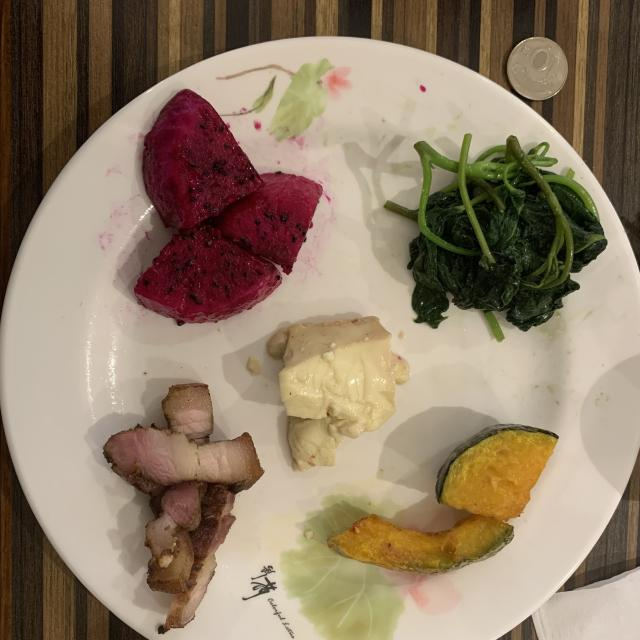coin: (506, 36, 568, 100)
grilled pork: (104, 384, 264, 631)
pumpkin: (328, 424, 559, 574)
sweet potato leaves: (385, 134, 608, 331)
